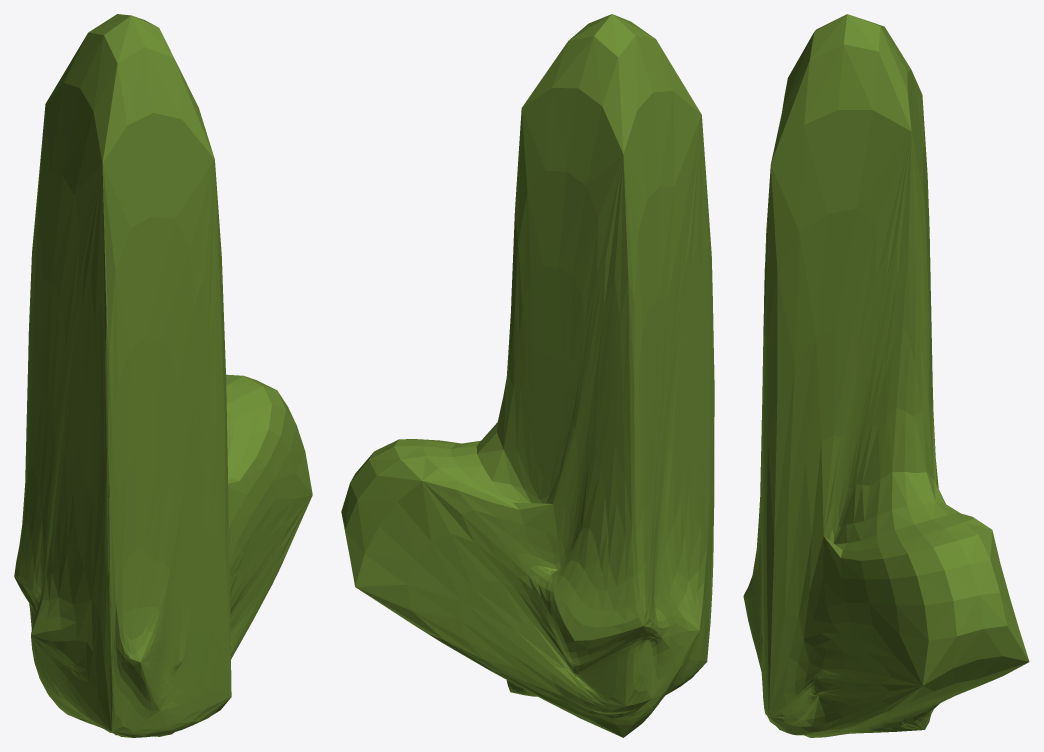
3 renders of one model, left to right at view 1: azimuth 30°, elevation 25°; view 2: azimuth 150°, elevation 25°; view 3: azimuth 270°, elevation 25°, orthographic. The views are drawn at different scales.
Parts seen in each view (by area): view 1: 792_Cube.3193; view 2: 792_Cube.3193; view 3: 792_Cube.3193.
Part boxes in pixels (x1,y1,x2,y2): 792_Cube.3193: [14, 14, 312, 737]; 792_Cube.3193: [341, 14, 714, 737]; 792_Cube.3193: [743, 14, 1029, 737].
Size of the model in its own units: 5.5 by 11.91 by 4.31.
